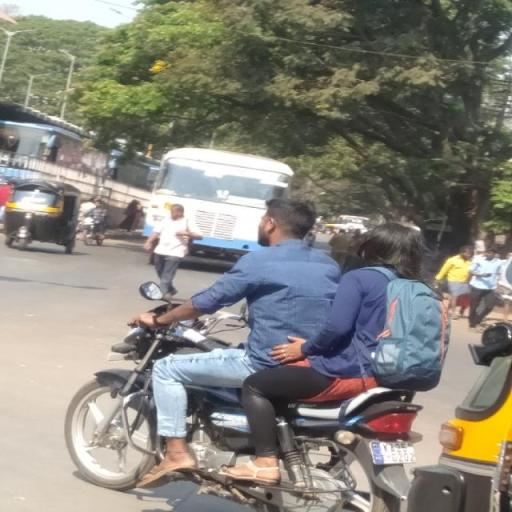bike: (58, 190, 452, 512)
withouthelmet: (368, 224, 426, 274), (262, 199, 313, 245)
